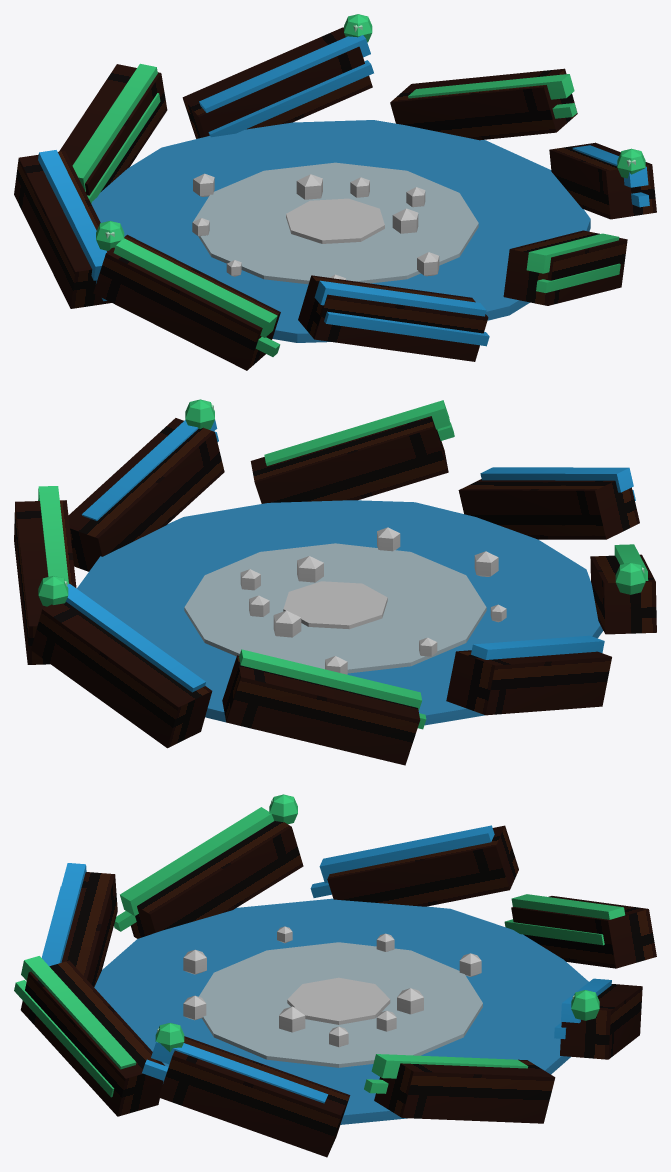
File: heart_spring.glb
3 views of the same model, one above another, from view 1: azimuth 30°, elevation 25°; view 2: azimuth 150°, elevation 25°; view 3: azimuth 270°, elevation 25° (orthographic). The views are drawn at different scales.
Parts seen in each view (by area): view 1: heart_spring; view 2: heart_spring; view 3: heart_spring.
Boxes of the visible parts, box(x1,y1,x2,y2) form: heart_spring: box(14, 14, 656, 370); heart_spring: box(14, 399, 656, 765); heart_spring: box(14, 794, 656, 1157).
Size of the model in its own units: 3.09 by 0.5949 by 3.12.
Materials: 2 (1 with a texture image).
